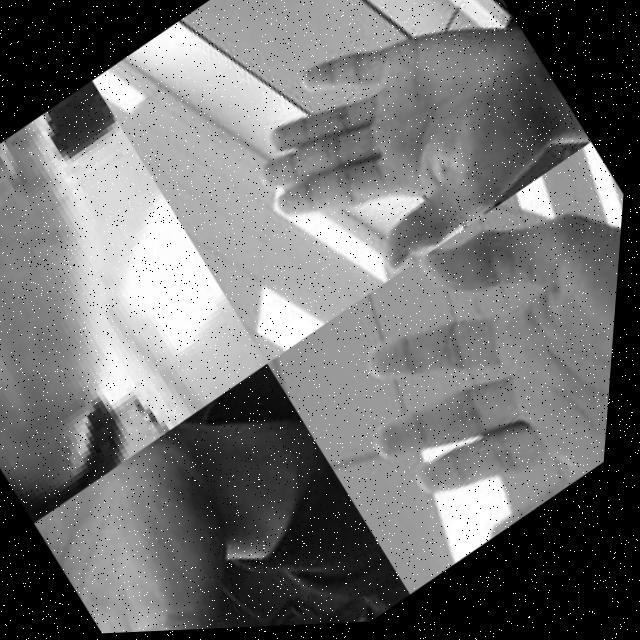no-gloves: (294, 145, 630, 580), (214, 0, 597, 321), (34, 387, 394, 638), (0, 97, 204, 445)
